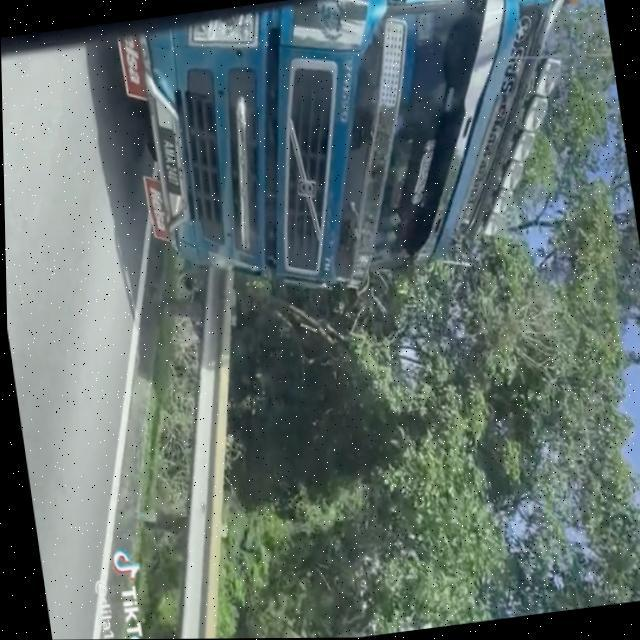truck: (117, 0, 617, 319)
